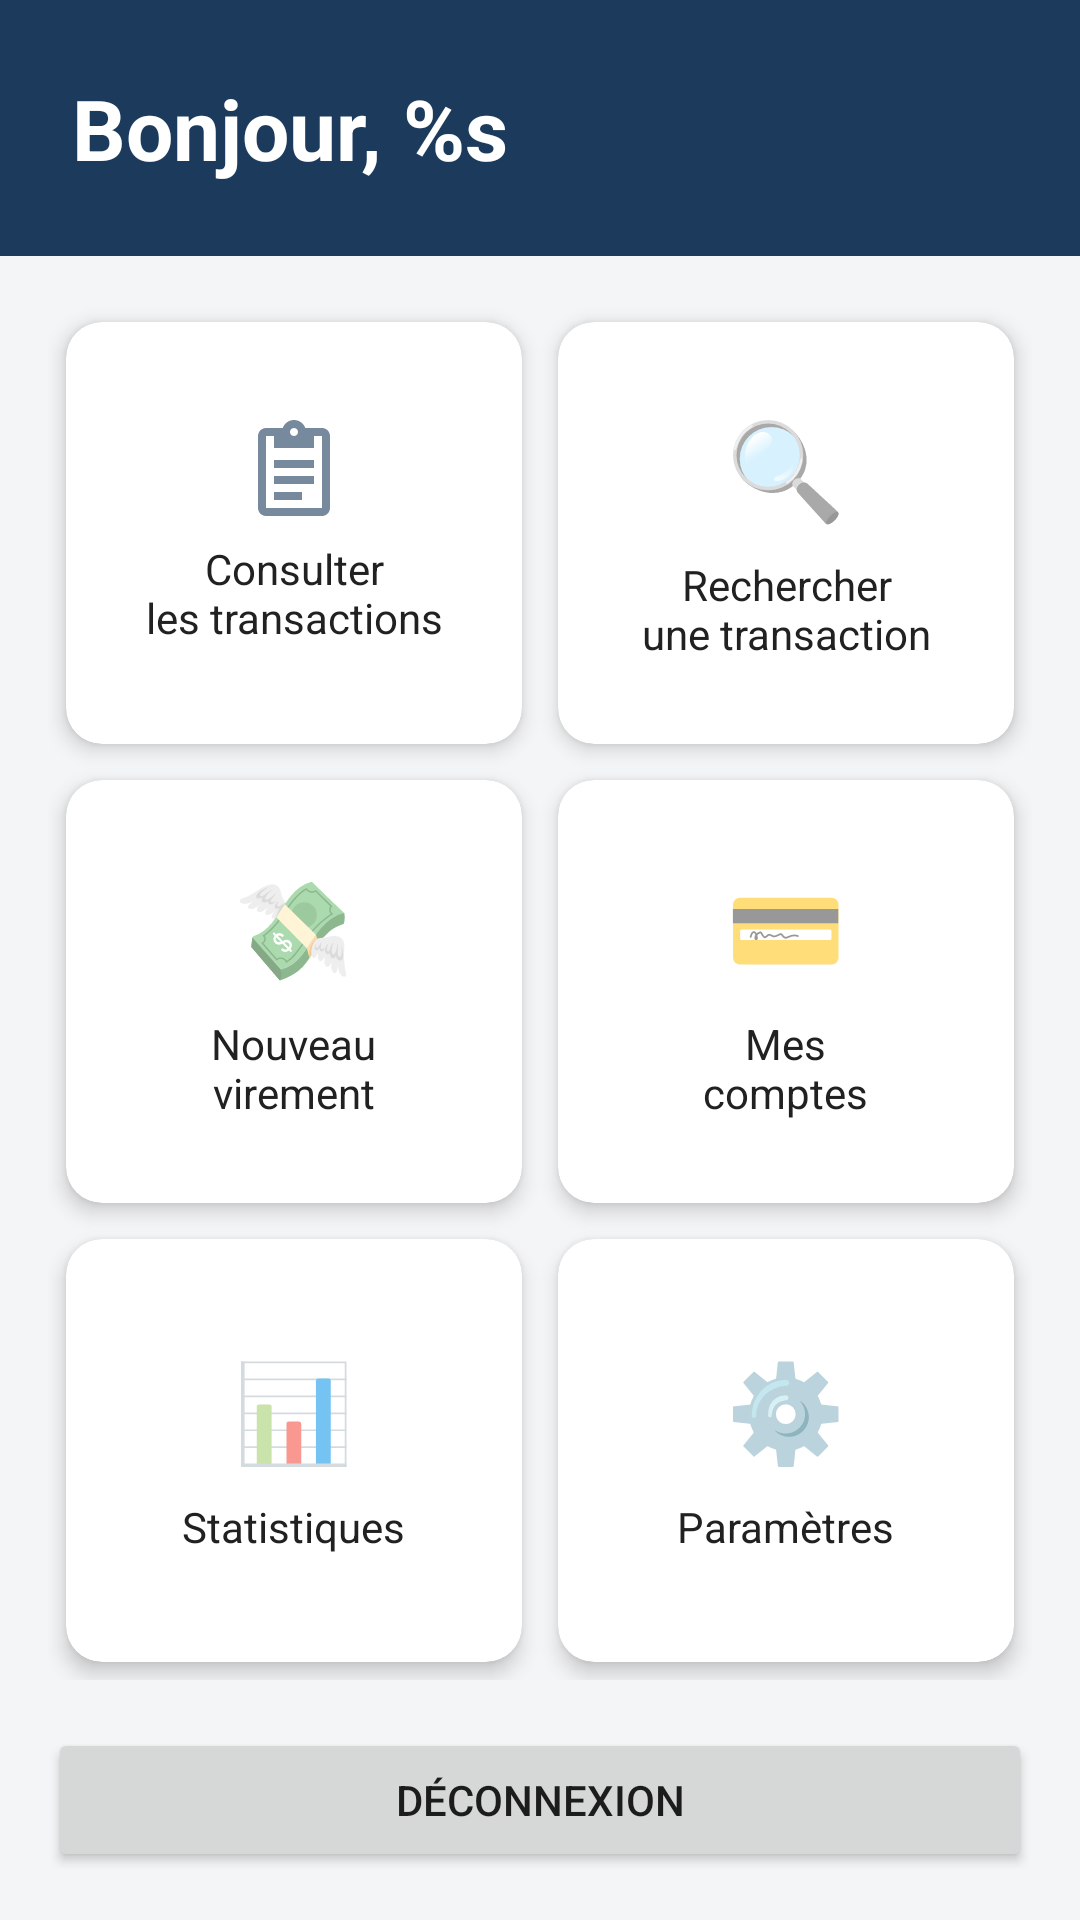

Icon bounding boxes for this 1080w x 1920h phone screenshot, format bbox=(x1, y1, x2, y2):
Icône transactions: bbox=(258, 420, 330, 516)
